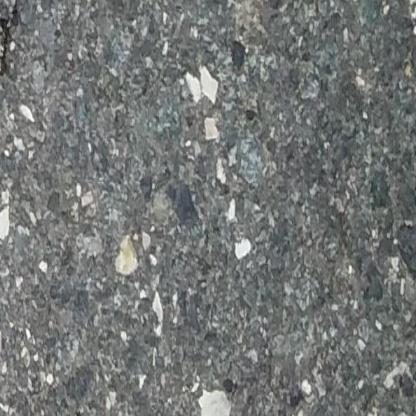Cracks: (0, 0, 28, 118)
